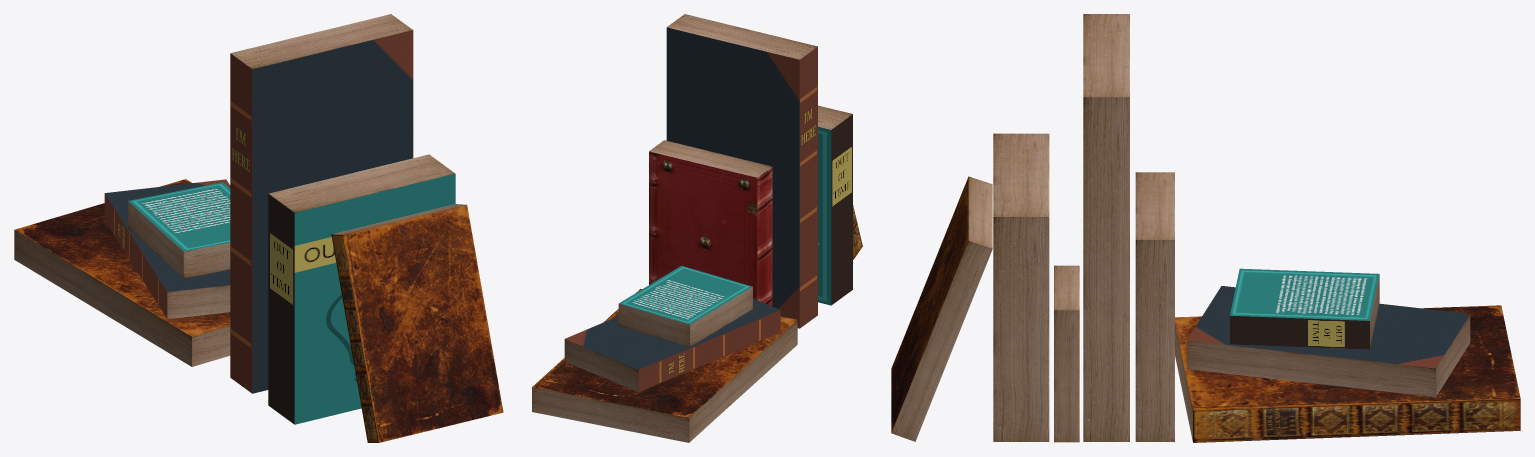
File: Book_Pile_04.FBX
3 renders of one model, left to right at view 1: azimuth 30°, elevation 25°; view 2: azimuth 150°, elevation 25°; view 3: azimuth 270°, elevation 25°, orthographic. The views are drawn at different scales.
Visible parts, largest first — view 1: Book_Pile_04; view 2: Book_Pile_04; view 3: Book_Pile_04.
Boxes of the visible parts, x1,y1,x2,y2 form: Book_Pile_04: [14, 14, 503, 442]; Book_Pile_04: [532, 14, 862, 442]; Book_Pile_04: [891, 14, 1520, 442].
Size of the model in its own units: 0.1838 by 0.2797 by 0.4628.
